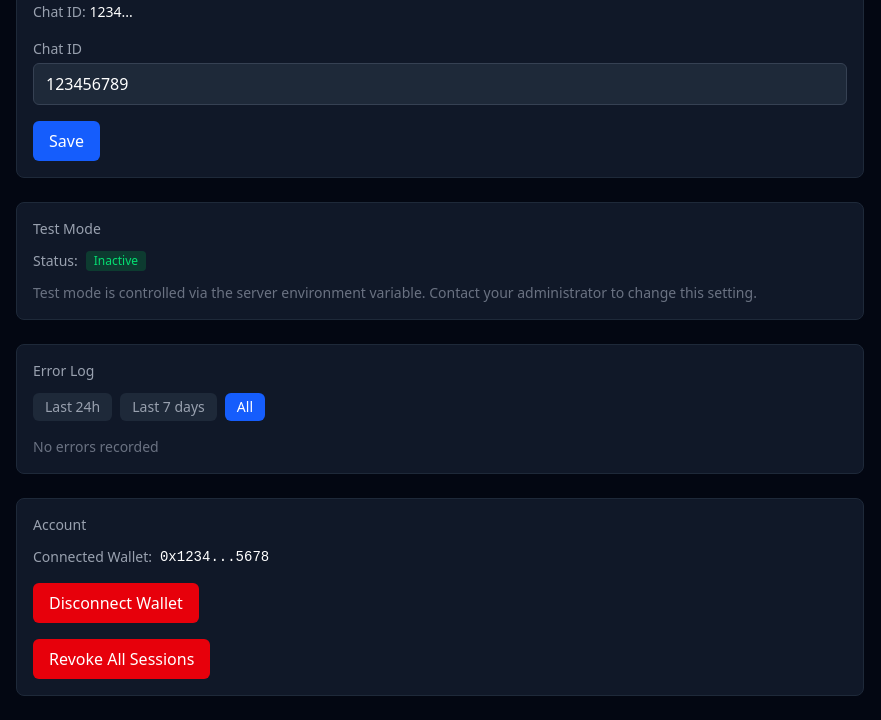
Scenario: SettingsPage - Account › shows revoke confirmation dialog on click
The width and height of the screenshot is (881, 720).
(page scrolled)
What coordinates should you click on to do the following:
click the button "Revoke All Sessions"
I would click on:
 (122, 659)
Its box is top-left (33, 639), bottom-right (210, 679).
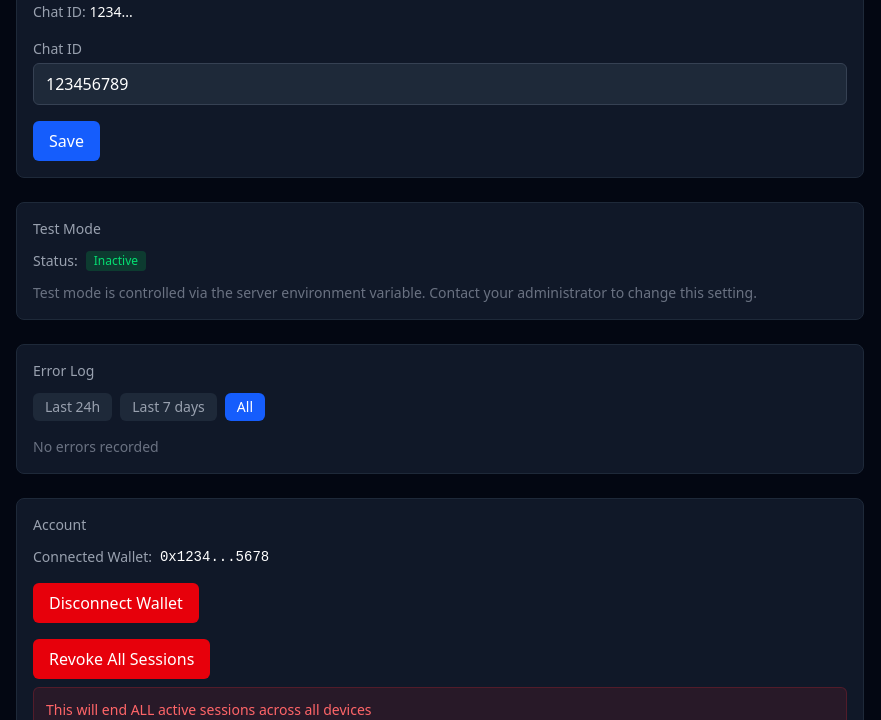
Result: the text "This will end ALL active sessions across all devices" is shown at top-left (46, 700), bottom-right (372, 719)
